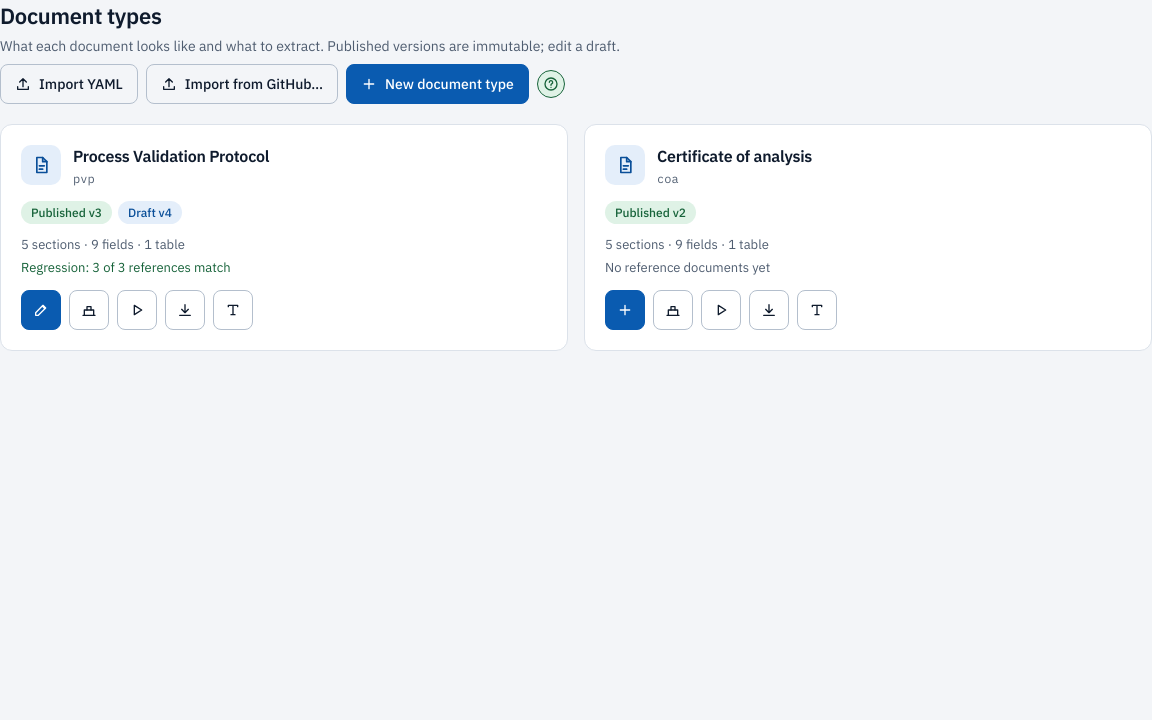
Test: TemplatesPage Rename… › renames the open draft and reloads the cards
The width and height of the screenshot is (1152, 720).
Click the button named "Rename Process Validation Protocol…" at (233, 310), box x1=213 y1=290 x2=253 y2=330
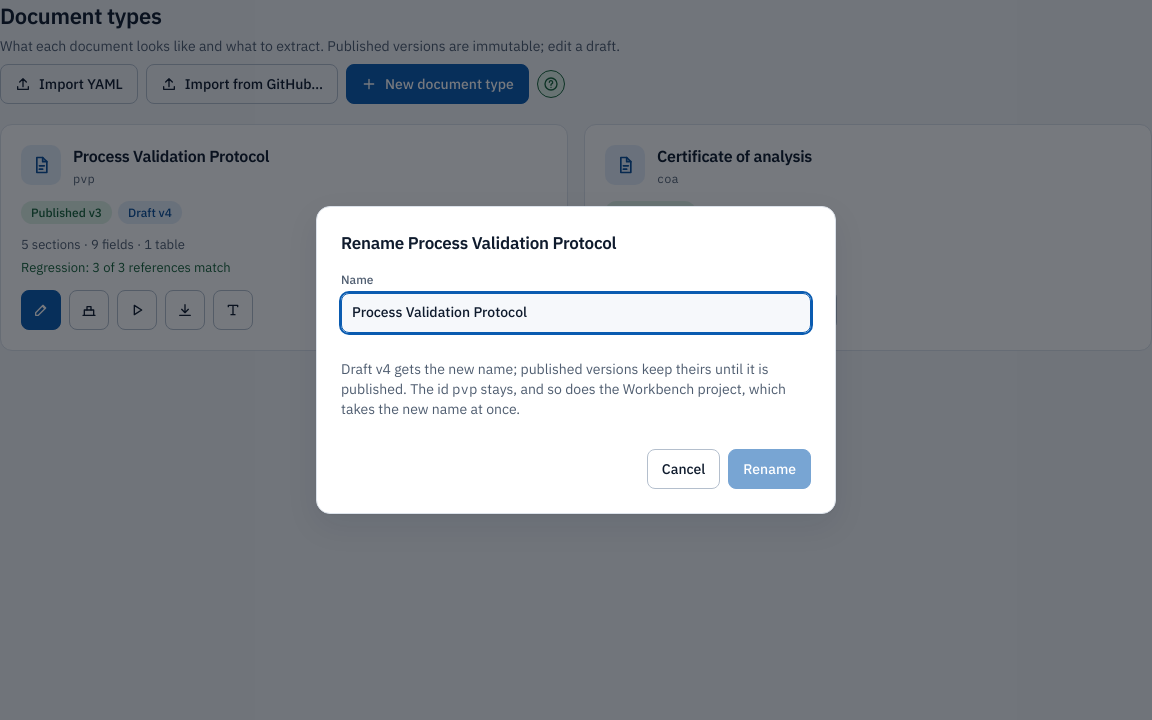
Check: the dialog "Rename Process Validation Protocol" shows "Draft v4 gets the new name", box x1=341 y1=360 x2=768 y2=398
Check: the field labelled "Name" holds "Process Validation Protocol"
Check: the button "Rename" is disabled, box x1=728 y1=450 x2=811 y2=490
Clear the field labelled "Name" at (576, 313), box x1=341 y1=293 x2=811 y2=333
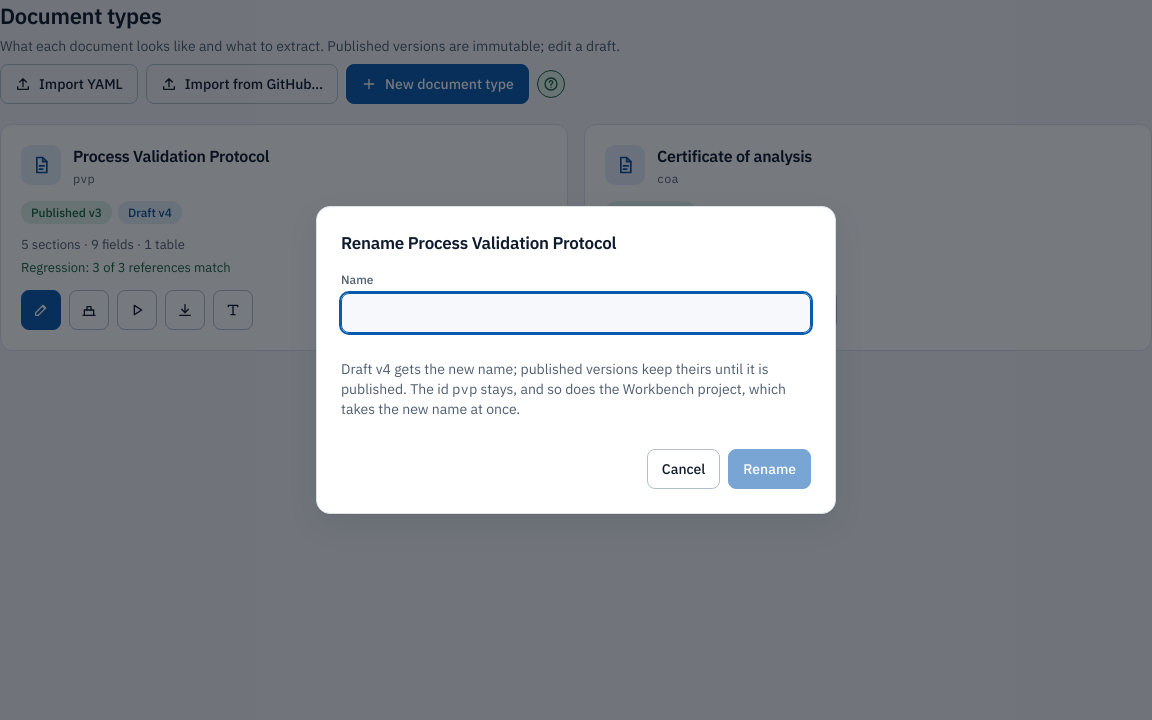
Check: the button "Rename" is disabled, box x1=728 y1=450 x2=811 y2=490
Type " Validation protocol " into the field labelled "Name" at (576, 313), box x1=341 y1=293 x2=811 y2=333
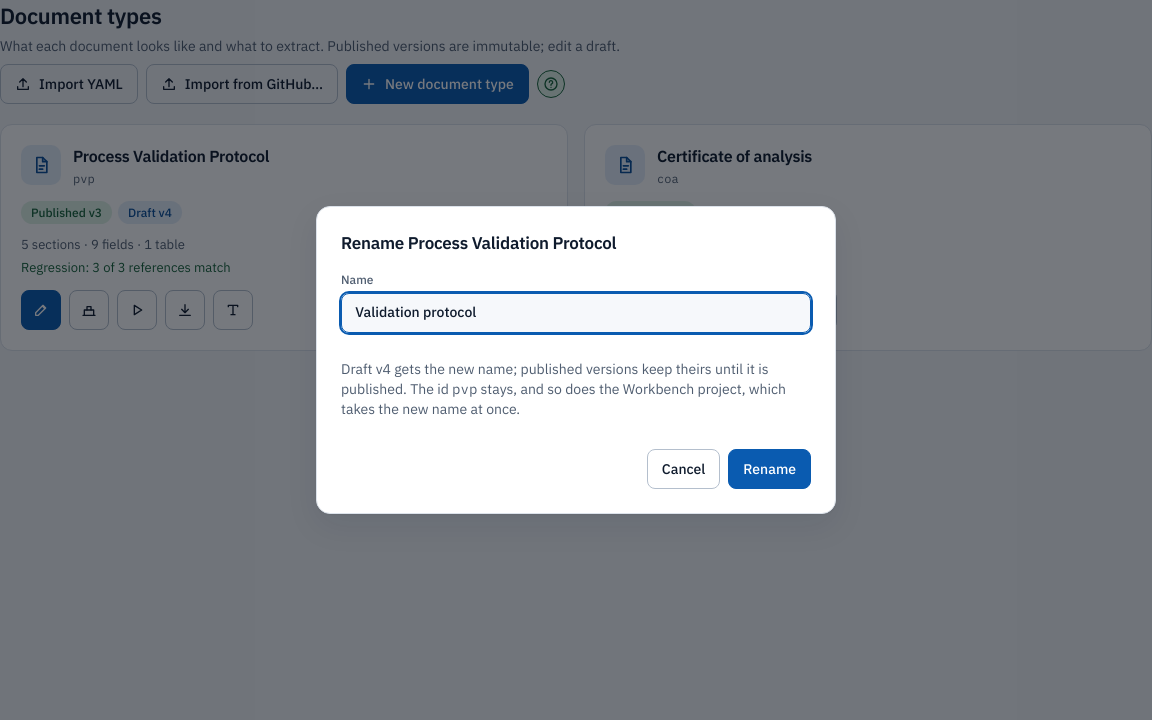
Click the button "Rename" at (770, 470), box x1=728 y1=450 x2=811 y2=490
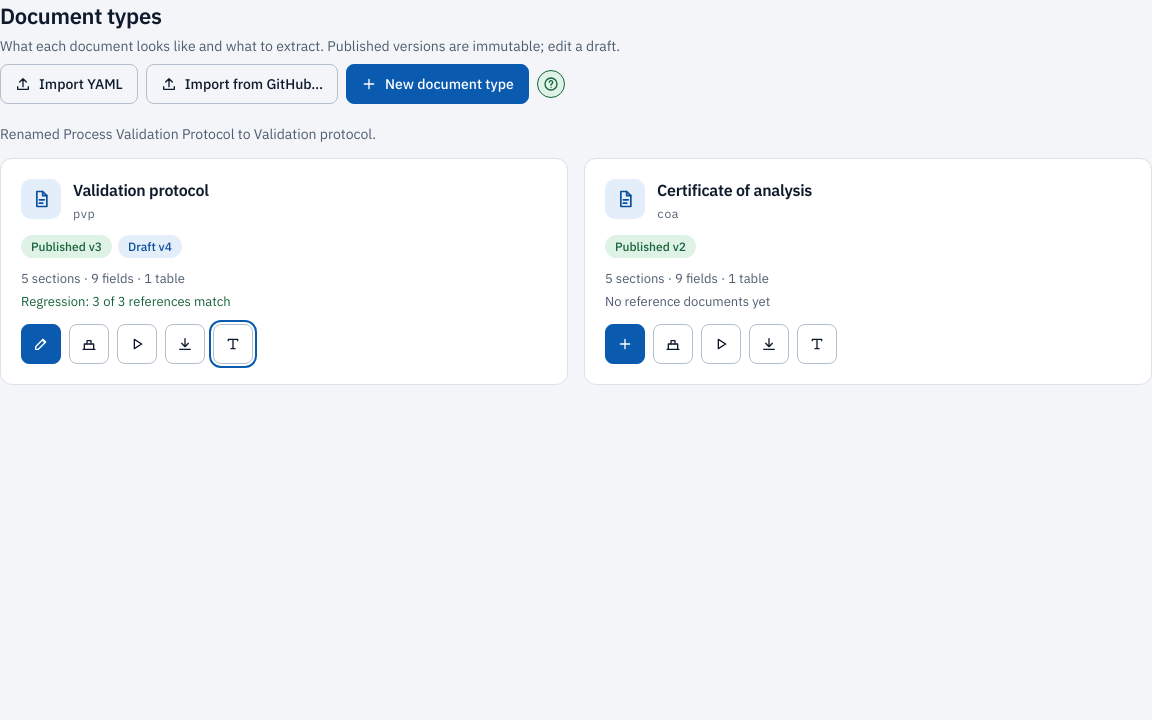
Check: the element "Validation protocol" is shown, box x1=0 y1=158 x2=568 y2=385
Check: the dialog is gone
Check: the message reads "Renamed Process Validation Protocol to Validation protocol.", box x1=0 y1=125 x2=376 y2=143
